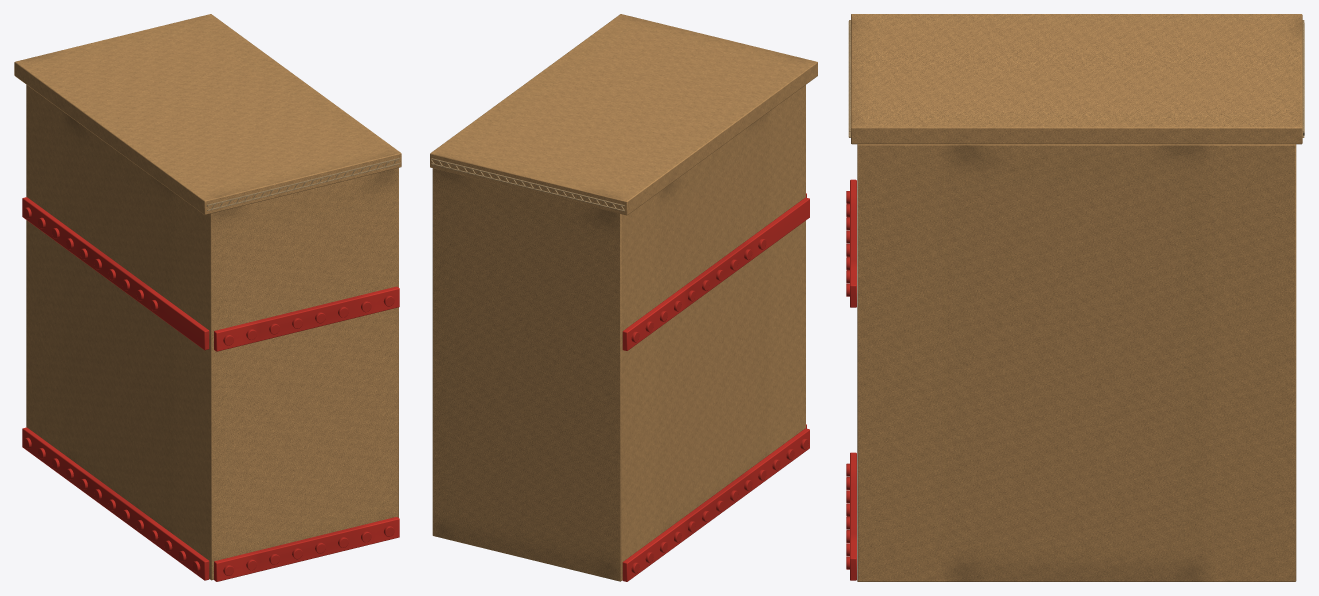
File: 1-left-stand-box-1.fbx
The picture shows the model from 3 angles, left to right: view 1: azimuth 30°, elevation 25°; view 2: azimuth 150°, elevation 25°; view 3: azimuth 270°, elevation 25°; orthographic projection. The views are drawn at different scales.
Visible parts, largest first — view 1: left-stand-box-1; view 2: left-stand-box-1; view 3: left-stand-box-1.
Part boxes in pixels (x1,y1,x2,y2): left-stand-box-1: [14, 14, 401, 581]; left-stand-box-1: [430, 14, 817, 581]; left-stand-box-1: [846, 14, 1304, 581].
Size of the model in its own units: 4300 by 8000 by 7307.
Materials: 1 (1 with a texture image).
